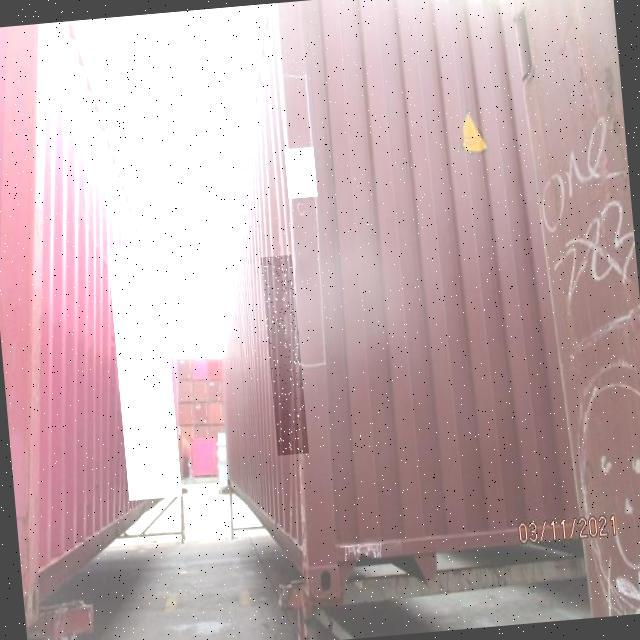Dent: (261, 254, 309, 455)
